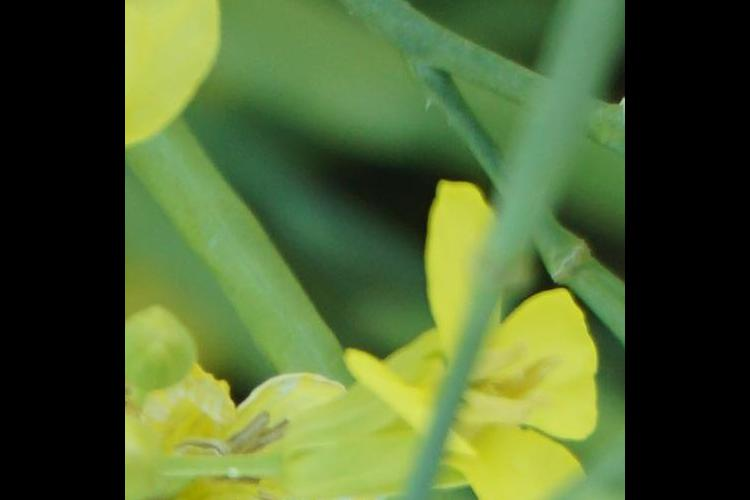yellow: (270, 183, 601, 500)
